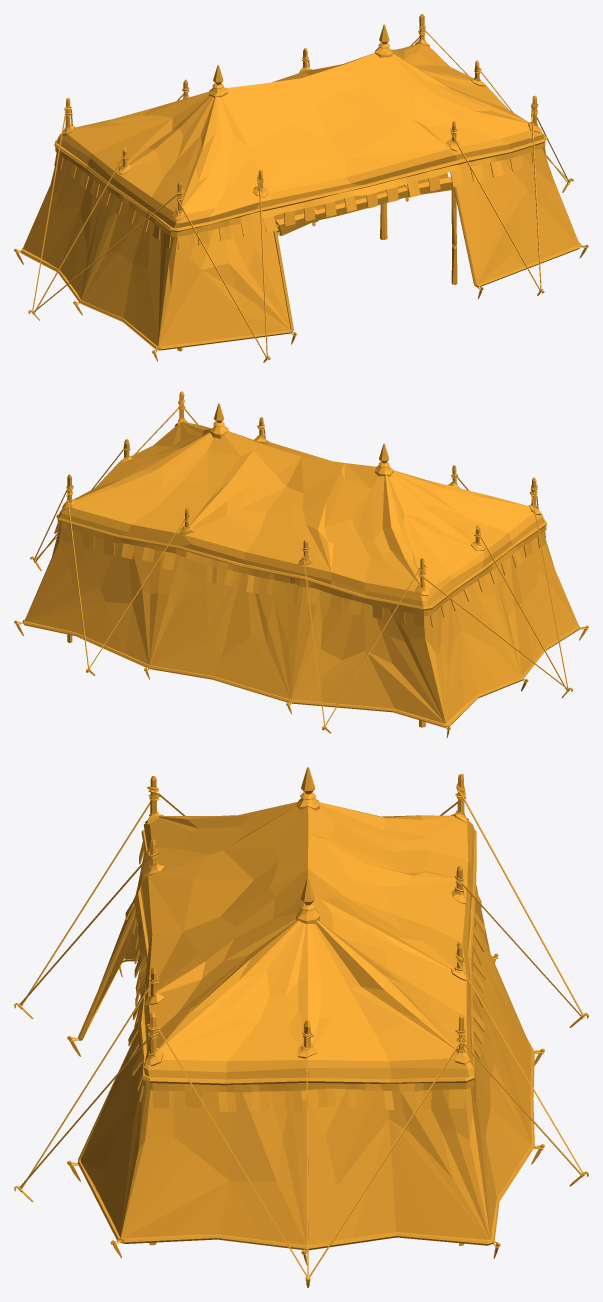
The model's file is SM_Tent_Royal_Plain_Fantasy.fbx.
3 views of the same model, one above another, from view 1: azimuth 30°, elevation 25°; view 2: azimuth 150°, elevation 25°; view 3: azimuth 270°, elevation 25° (orthographic). The views are drawn at different scales.
Parts seen in each view (by area): view 1: tent-royal-plain-fantasy; view 2: tent-royal-plain-fantasy; view 3: tent-royal-plain-fantasy.
Part boxes in pixels (left/top/right/bottom): tent-royal-plain-fantasy: left=14, top=14, right=588, bottom=362; tent-royal-plain-fantasy: left=14, top=391, right=588, bottom=737; tent-royal-plain-fantasy: left=14, top=767, right=588, bottom=1287.
Bounding box in the file's own units: 13.65 × 5.31 × 9.11.
